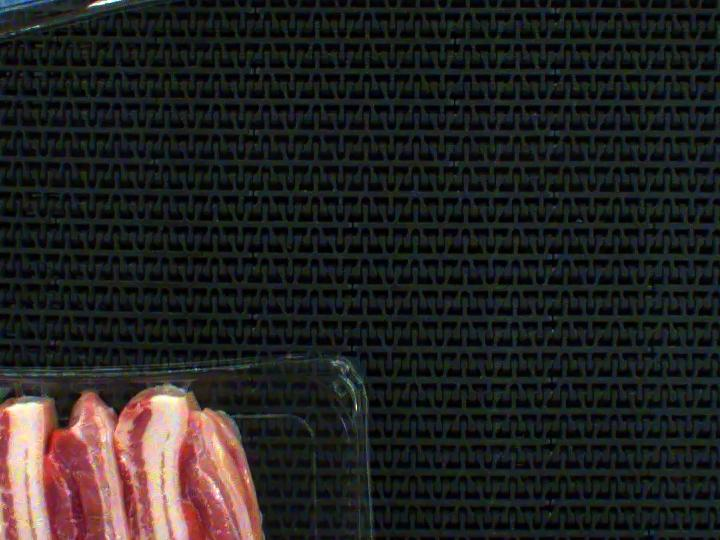packaging-error: (84, 340, 225, 411)
